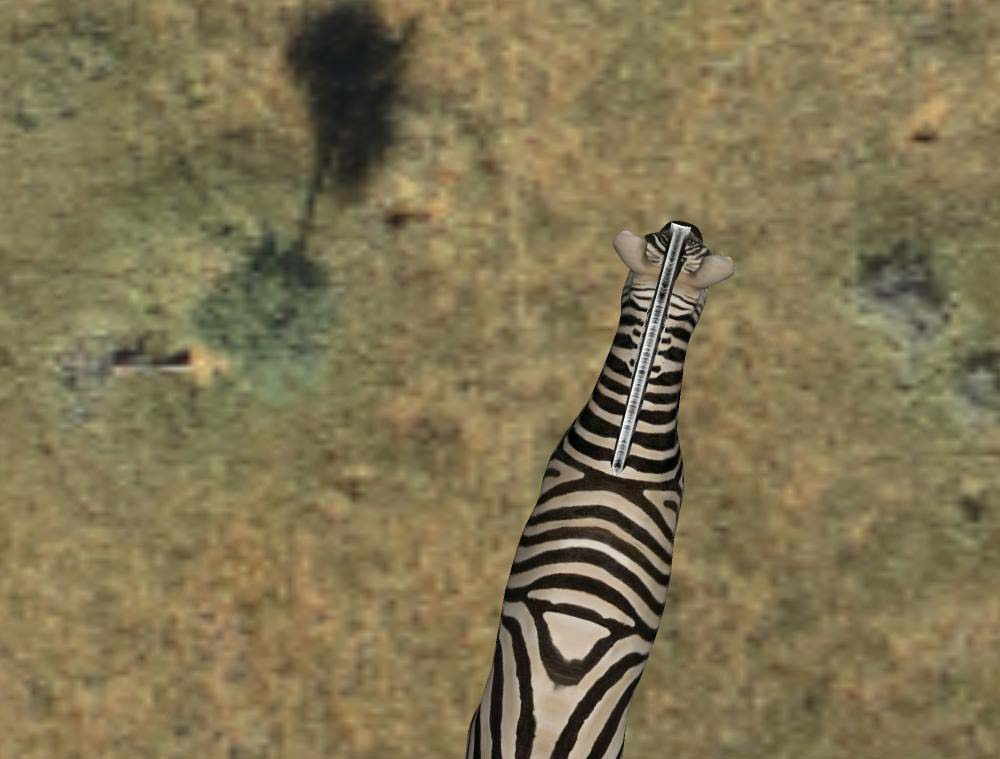zebra: (467, 189, 739, 759)
